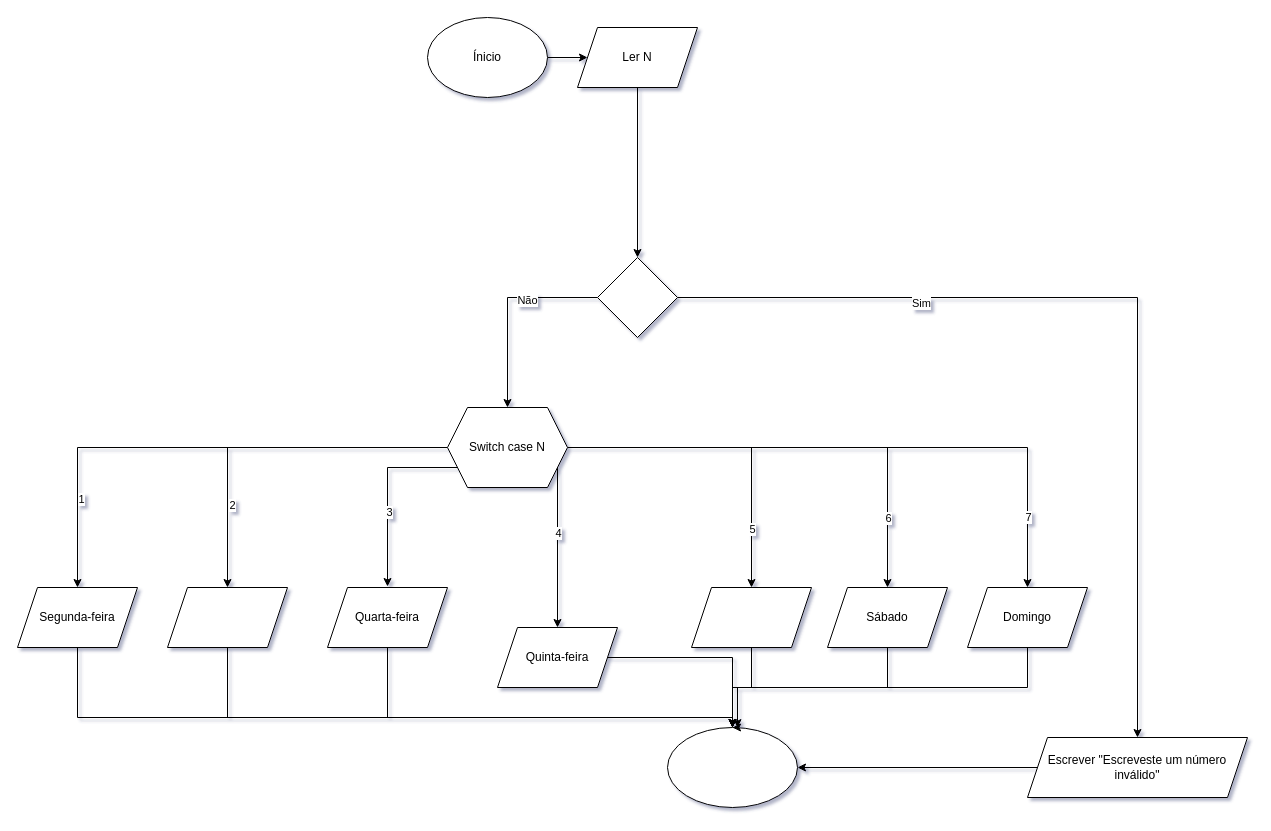
Some shapes in this 1271 by 831 pixel diagram are drawn without their labels. The box of each missing label's shape, as (x1, y1, x2, y2) in pixels:
Fim: (666, 726, 798, 808)
N>7 e N<0: (596, 256, 678, 338)
Sexta-feira: (690, 586, 812, 648)
Terça-feira: (166, 586, 288, 648)
